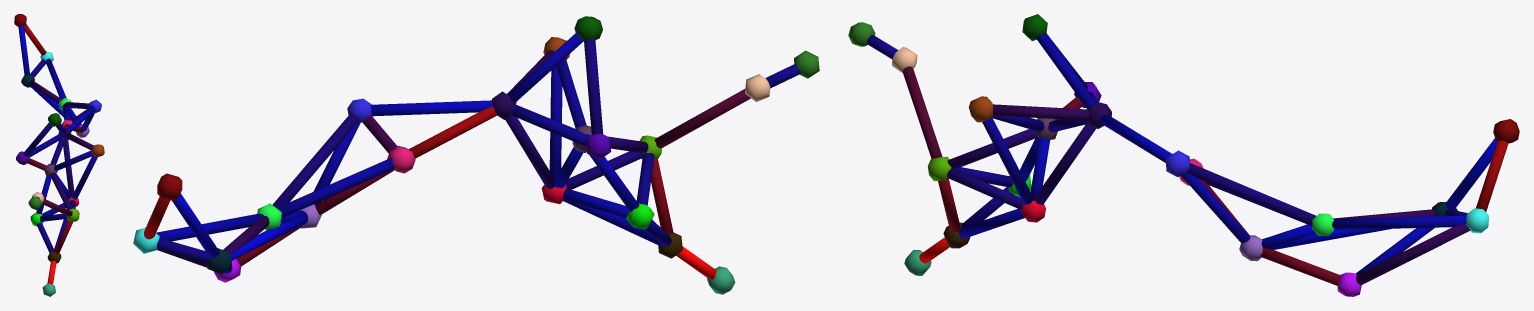
Rendered from squirrel.glb.
3 views of the same model, side by side, from view 1: azimuth 30°, elevation 25°; view 2: azimuth 150°, elevation 25°; view 3: azimuth 270°, elevation 25° (orthographic). The views are drawn at different scales.
Parts seen in each view (by area): view 1: fg-00281-skel; view 2: fg-00281-skel; view 3: fg-00281-skel.
Boxes of the visible parts, x1,y1,x2,y2 form: fg-00281-skel: (14,14,104,296); fg-00281-skel: (133,16,819,294); fg-00281-skel: (848,14,1519,296).
Bounding box in the file's own units: 0.1455 × 0.1158 × 0.2407.
Materials: 1 (1 with a texture image).
